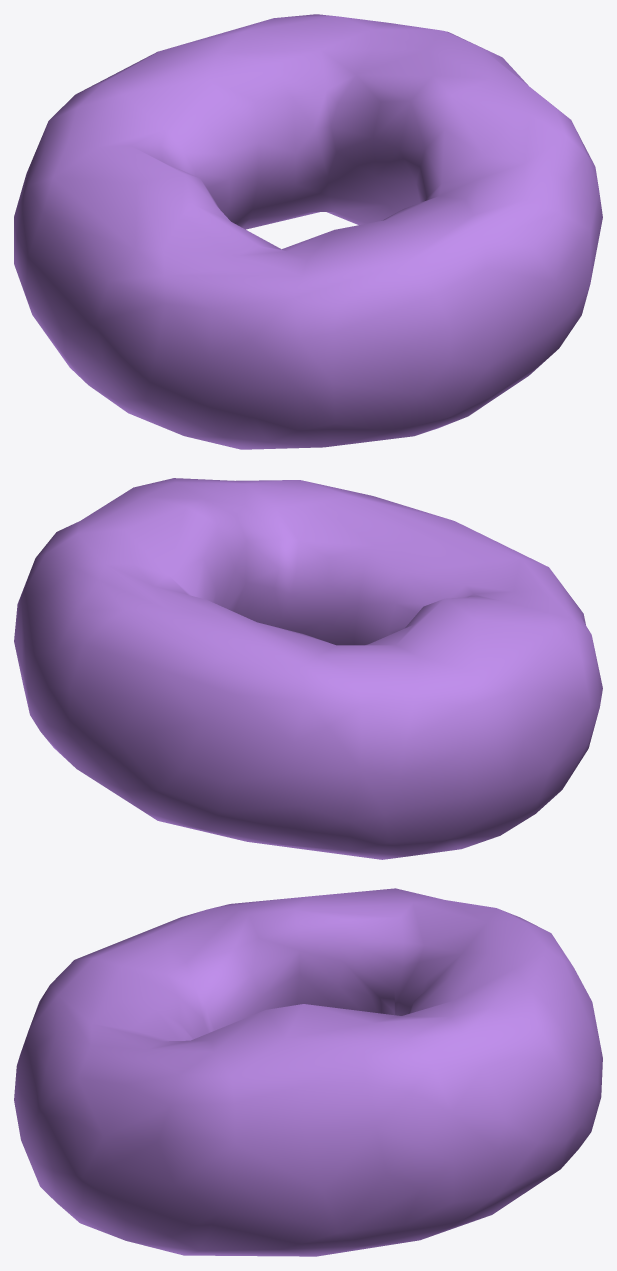
Rendered from ChangeTamano.gltf.
The picture shows the model from 3 angles, top to bottom: view 1: azimuth 30°, elevation 25°; view 2: azimuth 150°, elevation 25°; view 3: azimuth 270°, elevation 25°; orthographic projection. The views are drawn at different scales.
Parts seen in each view (by area): view 1: Torus_001; view 2: Torus_001; view 3: Torus_001.
Boxes of the visible parts, x1,y1,x2,y2 form: Torus_001: (14, 14, 602, 449); Torus_001: (14, 478, 602, 859); Torus_001: (14, 888, 602, 1256).
Size of the model in its own units: 1.28 by 0.6341 by 1.28.
